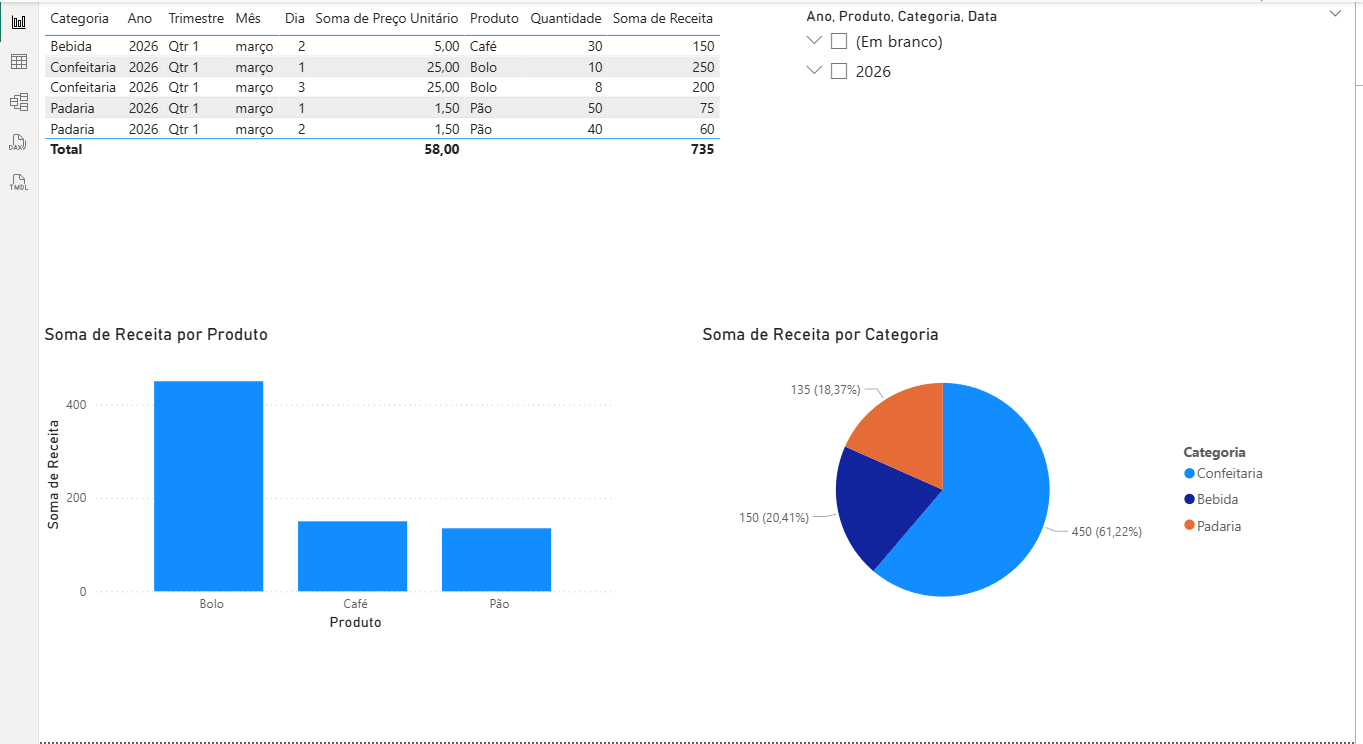

The page's visual inventory and layout, read from the dashboard file:
{"tool":"powerbi","page":{"name":"Página 1","canvas":[1280,720],"ordinal":0},"visuals":[{"type":"tableEx","fields":{"Values":["Base_Dados.Categoria","Base_Dados.Data.Variation.Hierarquia de datas.Ano","Base_Dados.Data.Variation.Hierarquia de datas.Trimestre","Base_Dados.Data.Variation.Hierarquia de datas.Mês","Base_Dados.Data.Variation.Hierarquia de datas.Dia","Sum(Base_Dados.Preço Unitário)","Base_Dados.Produto","Base_Dados.Quantidade","Sum(Base_Dados.Receita)"]},"box":[0,0,672.1,303.5],"z":0},{"type":"columnChart","fields":{"Y":["Sum(Base_Dados.Receita)"],"Category":["Base_Dados.Produto"]},"box":[0,313,565,303],"z":1000},{"type":"pieChart","fields":{"Category":["Base_Dados.Categoria"],"Y":["Sum(Base_Dados.Receita)"]},"box":[640,313.2,565.1,303.5],"z":2000},{"type":"slicer","fields":{"Values":["Base_Dados.Data.Variation.Hierarquia de datas.Ano","Base_Dados.Produto","Base_Dados.Categoria","Base_Dados.Data"]},"box":[733.4,0,546.6,99.2],"z":3000}]}

Visuals, with their boxes on the page's 1280x720 design canvas (x1, y1, x2, y2). These are canvas units, not pixel positions in the 1363x744 screenshot, which may show the page scaled, cropped or inside an application window:
tableEx - Base_Dados.Categoria x Base_Dados.Data.Variation.Hierarquia de datas.Ano: detection(0, 0, 672, 304)
columnChart - Sum(Base_Dados.Receita) x Base_Dados.Produto: detection(0, 313, 565, 616)
pieChart - Base_Dados.Categoria x Sum(Base_Dados.Receita): detection(640, 313, 1205, 617)
slicer - Base_Dados.Data.Variation.Hierarquia de datas.Ano x Base_Dados.Produto: detection(733, 0, 1280, 99)
